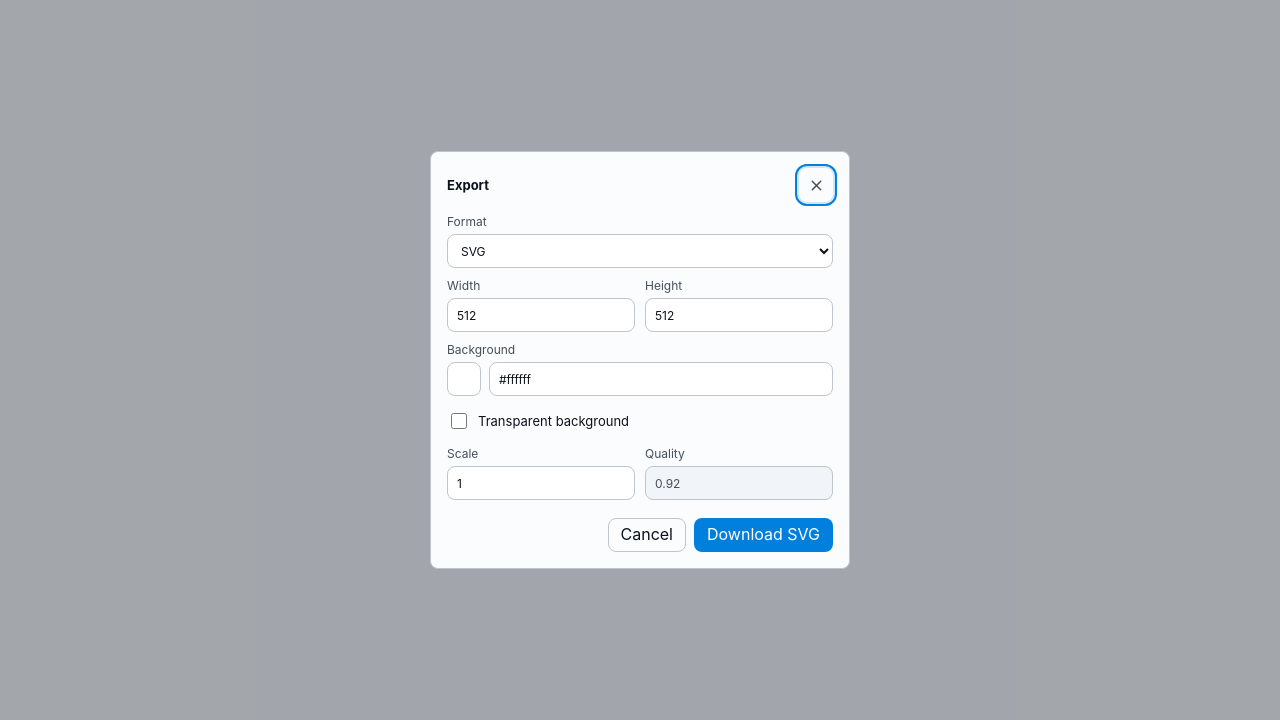
ExportDialog › keeps the dialog open and shows an error when export fails
Select "PDF" in the dropdown labelled "Format" at (640, 251), box [447, 234, 833, 268]
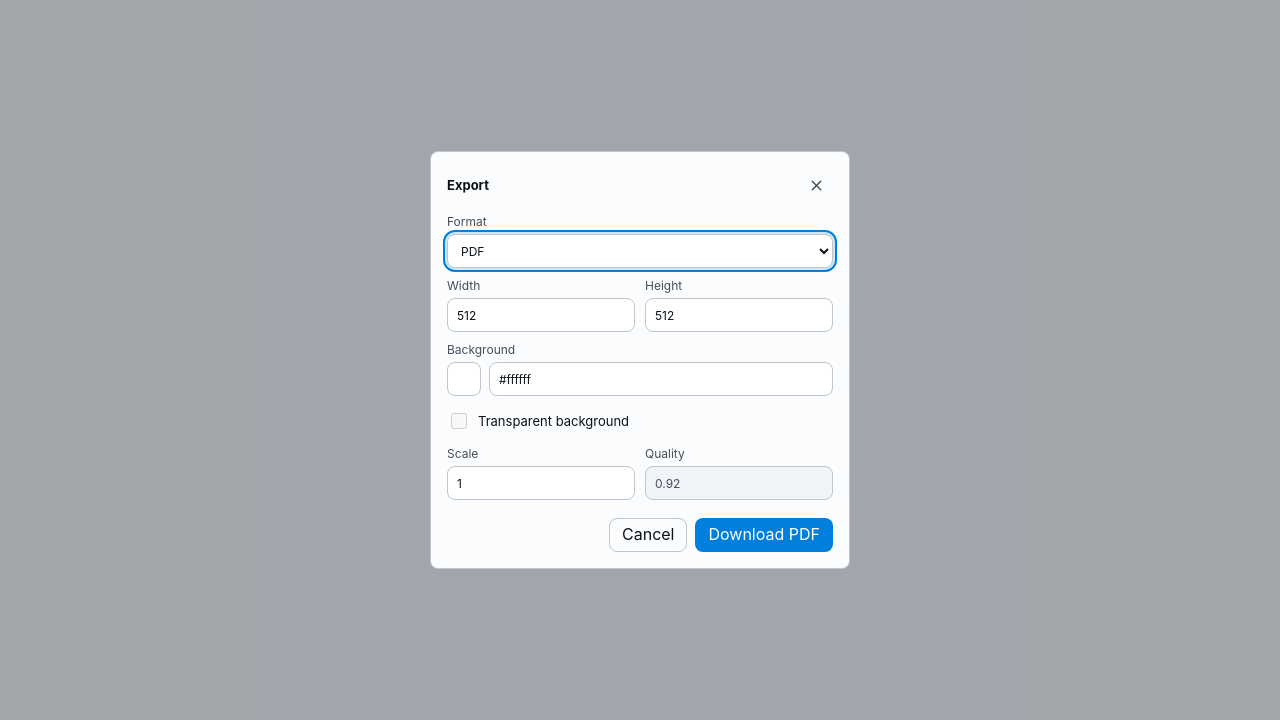
Expected: the button "Download PDF" is shown
Click the button "Download PDF" at (764, 535), box [696, 518, 833, 552]
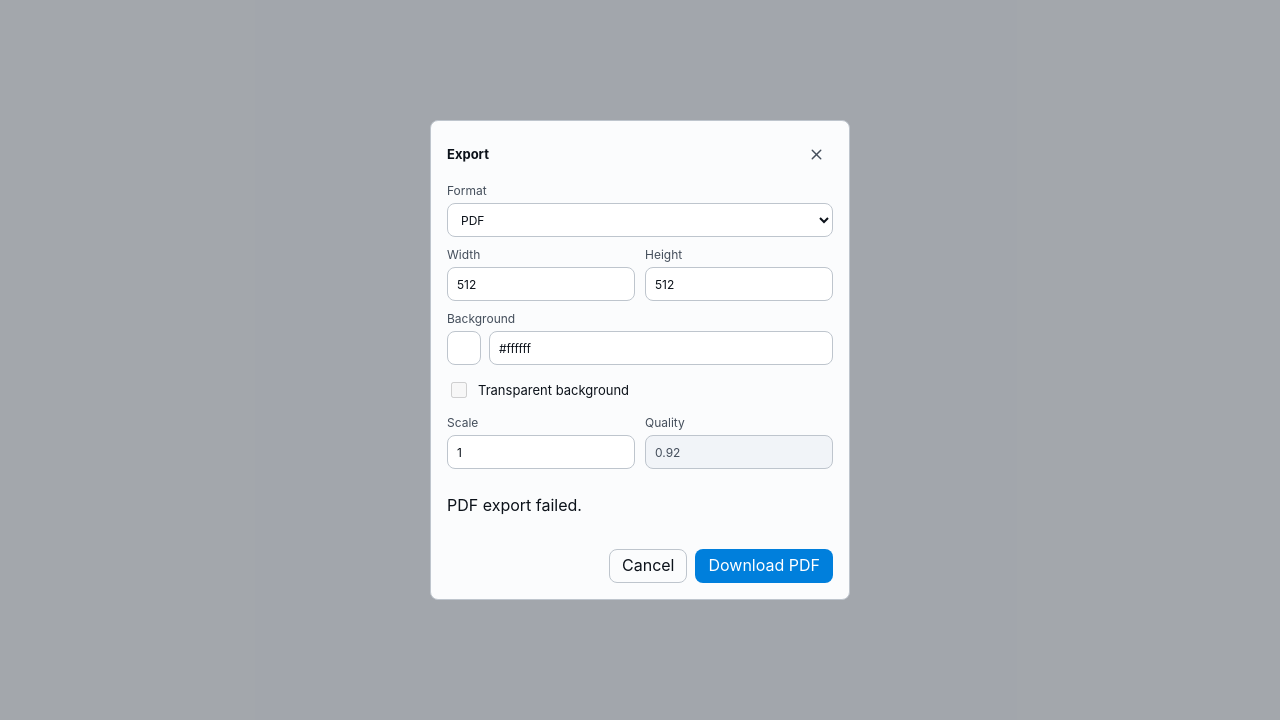
Expected: the message reads "PDF export failed.", [447, 495, 582, 515]
